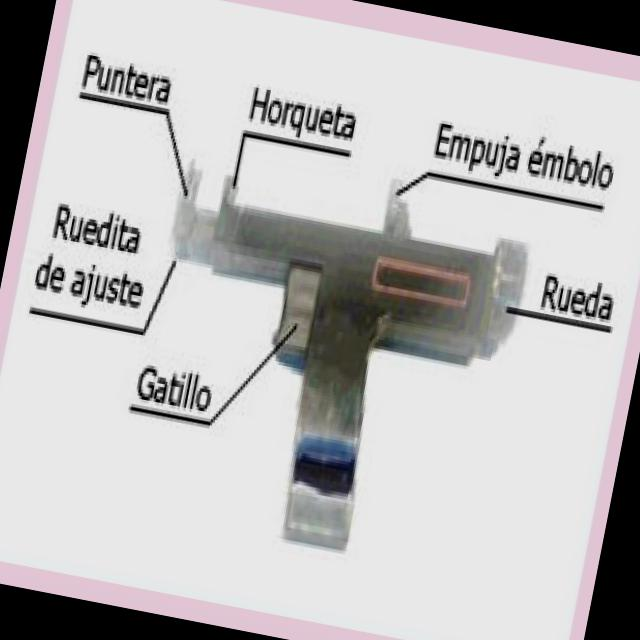handgun: (111, 155, 548, 580)
